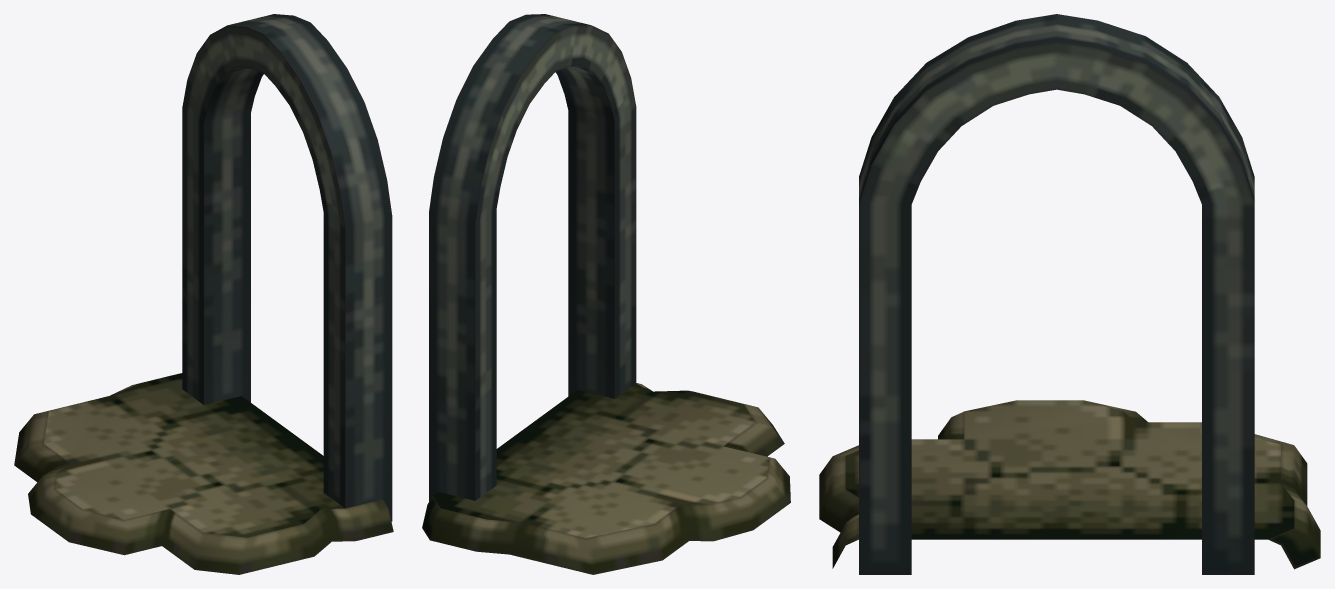
Rendered from EnvBdgMD_Forest_A_Outdoor_Entrance_A.fbx.
3 renders of one model, left to right at view 1: azimuth 30°, elevation 25°; view 2: azimuth 150°, elevation 25°; view 3: azimuth 270°, elevation 25°, orthographic. The views are drawn at different scales.
Visible parts, largest first — view 1: EnvBdgMD_Forest_A_Outdoor_Entrance_A; view 2: EnvBdgMD_Forest_A_Outdoor_Entrance_A; view 3: EnvBdgMD_Forest_A_Outdoor_Entrance_A.
Boxes of the visible parts, box(x1,y1,x2,y2) form: EnvBdgMD_Forest_A_Outdoor_Entrance_A: box(14, 14, 393, 574); EnvBdgMD_Forest_A_Outdoor_Entrance_A: box(422, 14, 790, 574); EnvBdgMD_Forest_A_Outdoor_Entrance_A: box(819, 14, 1320, 574).
Size of the model in its own units: 140 by 223 by 190.
